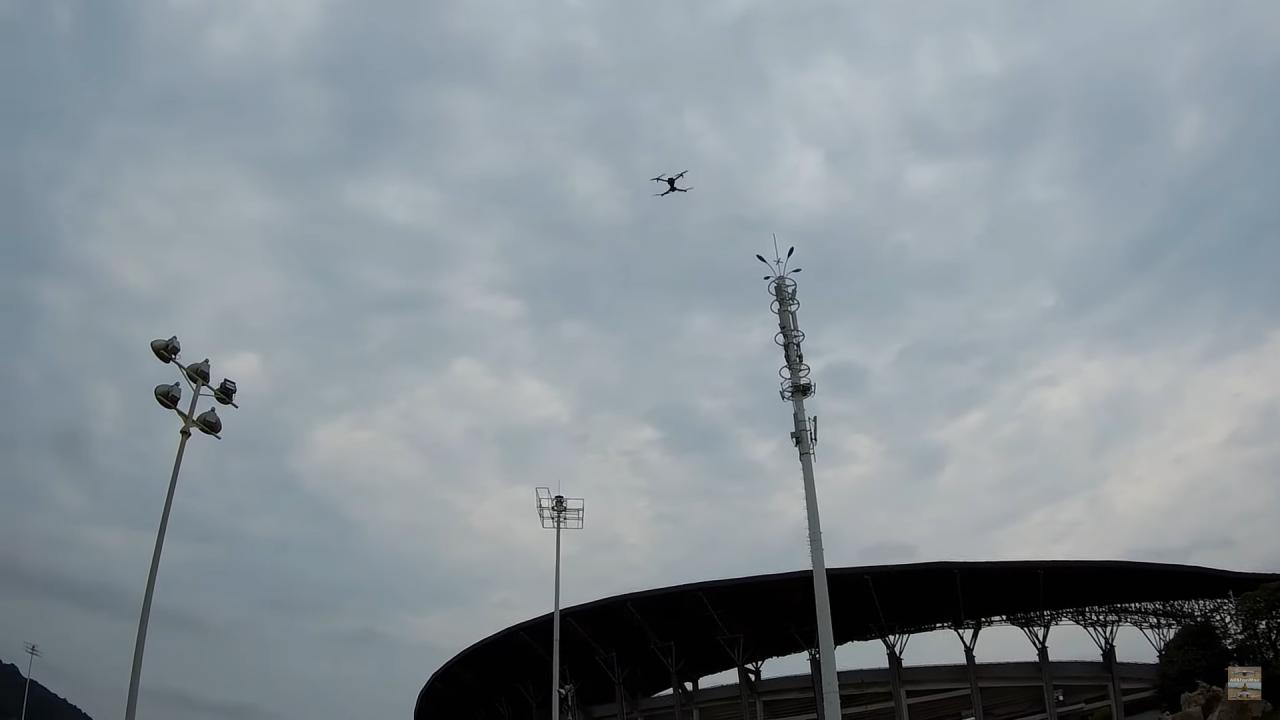Drone: (642, 160, 699, 207)
